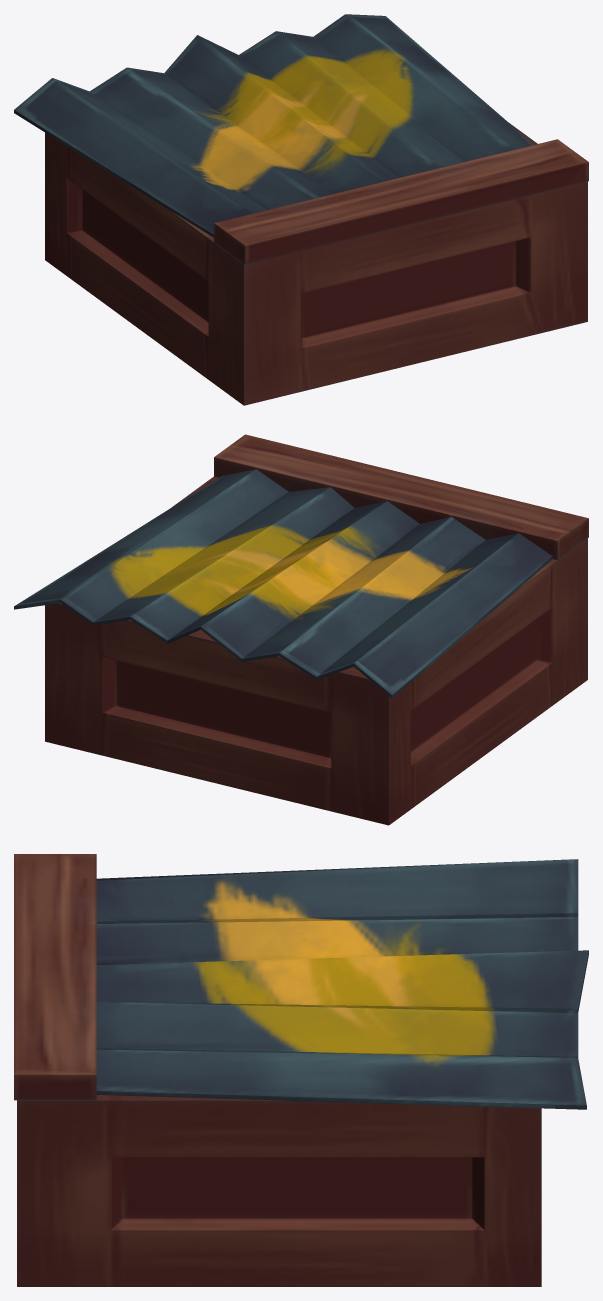
Rendered from SM_Crate_Corn.fbx.
The picture shows the model from 3 angles, top to bottom: view 1: azimuth 30°, elevation 25°; view 2: azimuth 150°, elevation 25°; view 3: azimuth 270°, elevation 25°; orthographic projection. The views are drawn at different scales.
Visible parts, largest first — view 1: SM_Stash_Corn; view 2: SM_Stash_Corn; view 3: SM_Stash_Corn.
Part boxes in pixels (x1,y1,x2,y2): SM_Stash_Corn: [14, 14, 588, 405]; SM_Stash_Corn: [14, 434, 588, 825]; SM_Stash_Corn: [14, 854, 588, 1286].
Size of the model in its own units: 0.0102 by 0.00442 by 0.0102.
